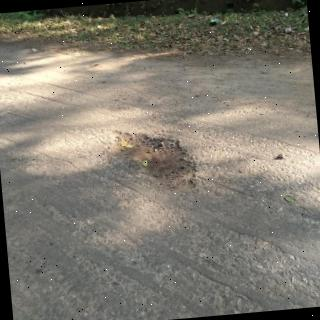pothole: (77, 128, 198, 192)
